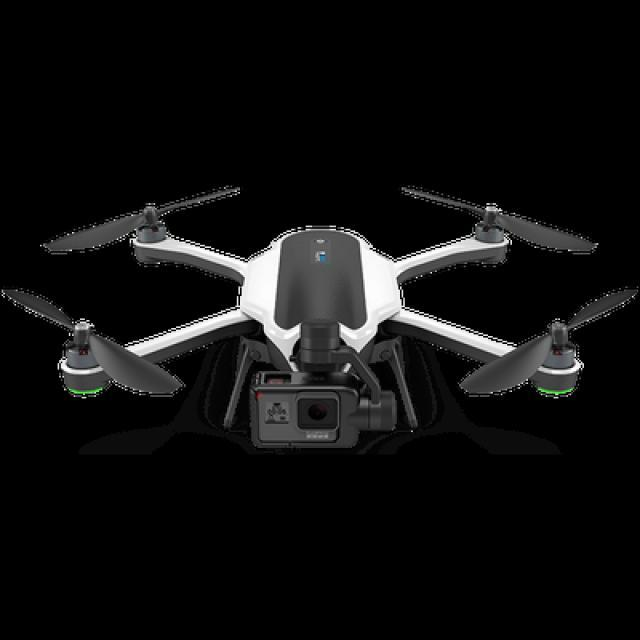drone: (23, 175, 639, 431)
